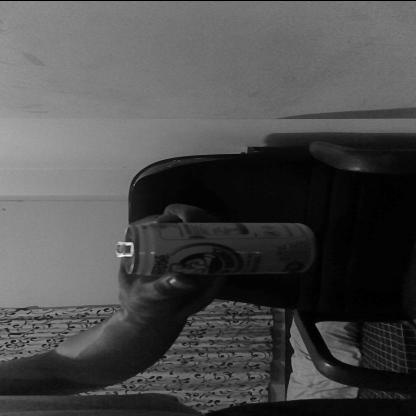alumunium_can: (114, 218, 314, 275)
